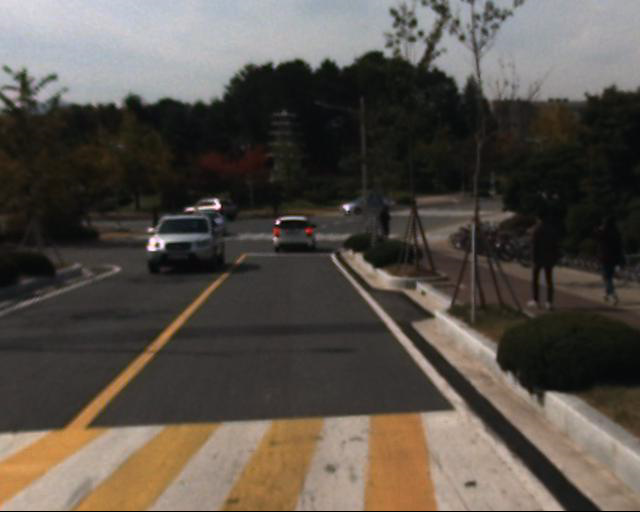person: (515, 206, 570, 315), (580, 201, 631, 307), (374, 207, 402, 256)
